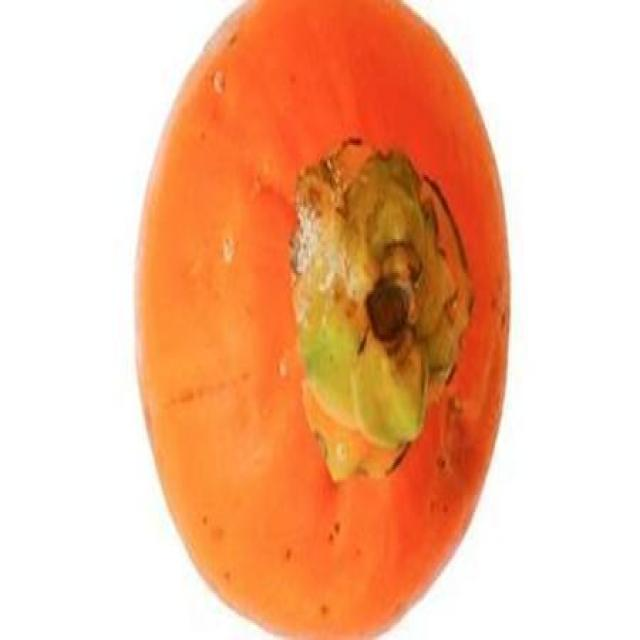good: (132, 0, 513, 638)
